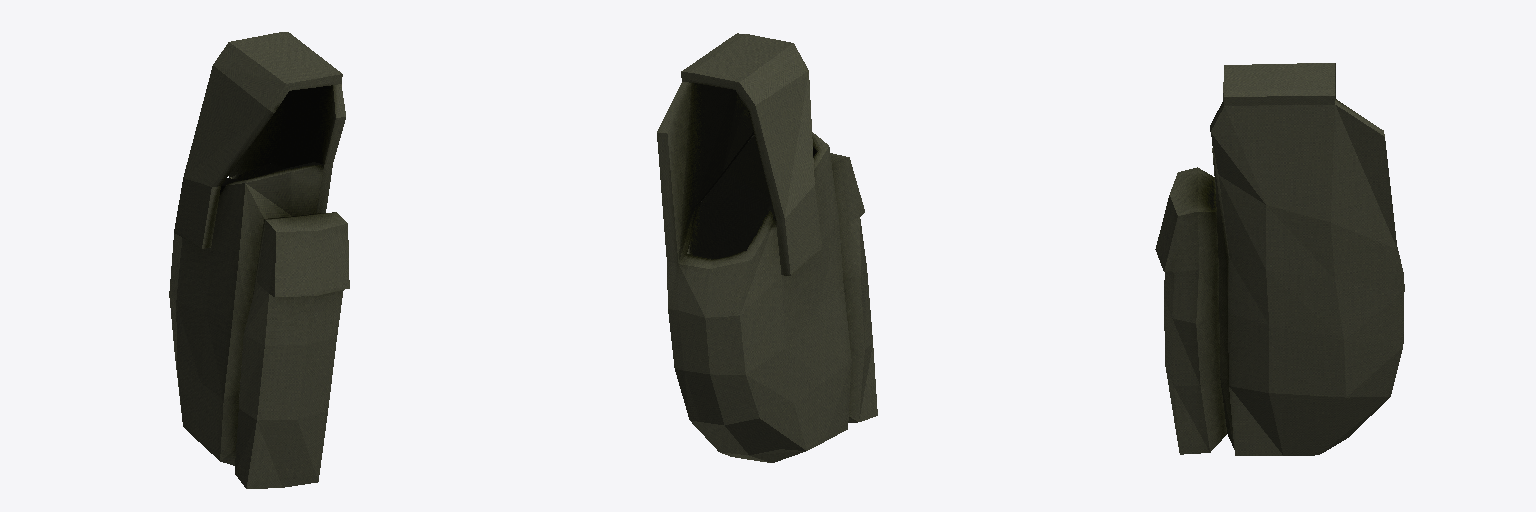
The picture shows the model from 3 angles: view 1: azimuth 30°, elevation 25°; view 2: azimuth 150°, elevation 25°; view 3: azimuth 270°, elevation 25°; orthographic projection.
Visible parts, largest first — view 1: Default; view 2: Default; view 3: Default.
Part boxes in pixels (x1,y1,x2,y2): Default: (169, 32, 349, 488); Default: (657, 33, 877, 462); Default: (1155, 63, 1404, 455).
Bounding box in the file's own units: 0.4716 × 1.46 × 0.851.
Materials: 1 (1 with a texture image).